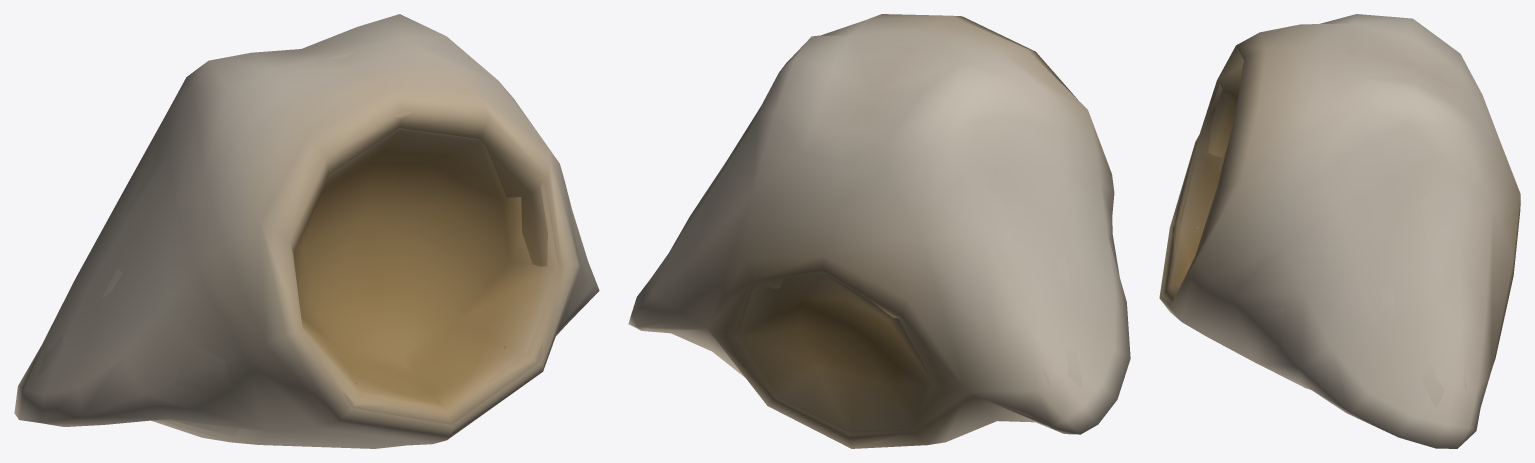
The model's file is vertebrae caudales 08.fbx.
3 renders of one model, left to right at view 1: azimuth 30°, elevation 25°; view 2: azimuth 150°, elevation 25°; view 3: azimuth 270°, elevation 25°, orthographic. The views are drawn at different scales.
Visible parts, largest first — view 1: vertebrae caudales 08, vertebrae caudales 08 low; view 2: vertebrae caudales 08, vertebrae caudales 08 low; view 3: vertebrae caudales 08, vertebrae caudales 08 low.
Boxes of the visible parts, left/top/right/bottom form: vertebrae caudales 08: left=14, top=14, right=599, bottom=448; vertebrae caudales 08 low: left=37, top=45, right=587, bottom=436; vertebrae caudales 08: left=628, top=14, right=1130, bottom=448; vertebrae caudales 08 low: left=643, top=46, right=1119, bottom=432; vertebrae caudales 08: left=1159, top=14, right=1520, bottom=448; vertebrae caudales 08 low: left=1161, top=45, right=1466, bottom=407.
Size of the model in its own units: 1.33 by 0.9897 by 0.8974.
1 material, 1 textured.
